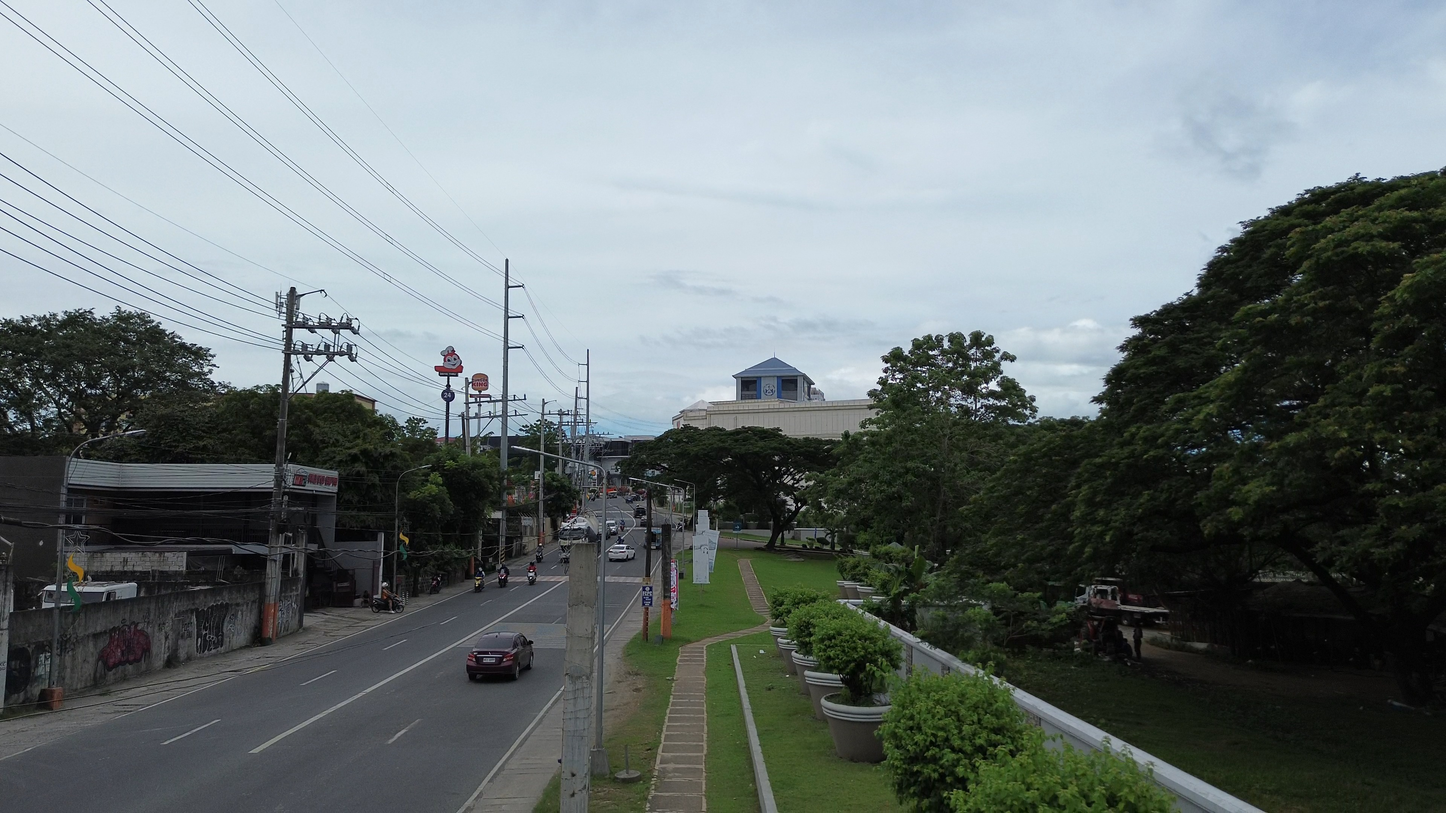car: (466, 632, 533, 679), (607, 543, 635, 561), (635, 506, 646, 518)
motorcycle: (371, 596, 403, 612), (429, 575, 442, 594), (497, 571, 508, 588), (526, 570, 537, 586), (474, 575, 484, 592)
vehicle: (74, 581, 138, 603), (371, 595, 404, 612), (429, 574, 442, 594), (651, 526, 662, 549), (497, 567, 509, 588), (559, 545, 570, 563), (474, 573, 484, 592), (526, 568, 537, 585), (633, 505, 647, 518)
